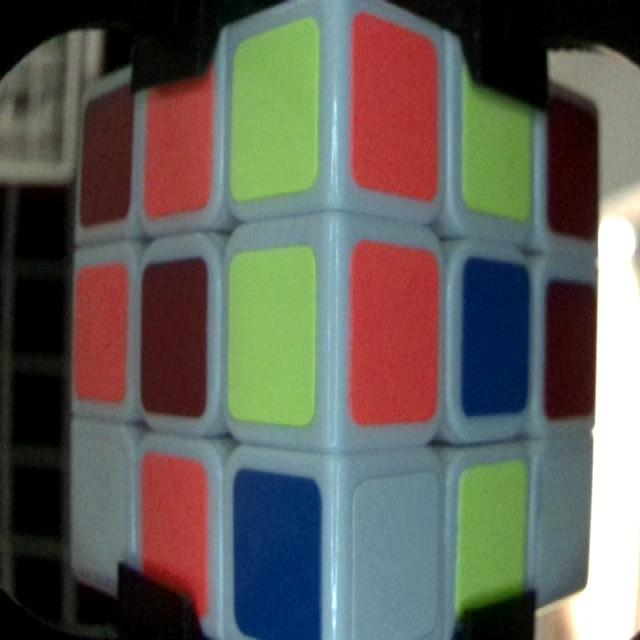b: (233, 469, 320, 640), (462, 255, 528, 418)
o: (350, 239, 438, 427), (354, 14, 438, 199), (144, 451, 208, 618), (148, 66, 212, 216), (75, 269, 124, 399)
r: (142, 261, 206, 418), (546, 95, 599, 234), (547, 281, 596, 423), (84, 94, 132, 215)
w: (358, 481, 432, 638), (74, 436, 124, 576), (538, 454, 586, 589)
y: (228, 249, 314, 428), (233, 40, 314, 197), (459, 463, 525, 617), (464, 65, 528, 216)
